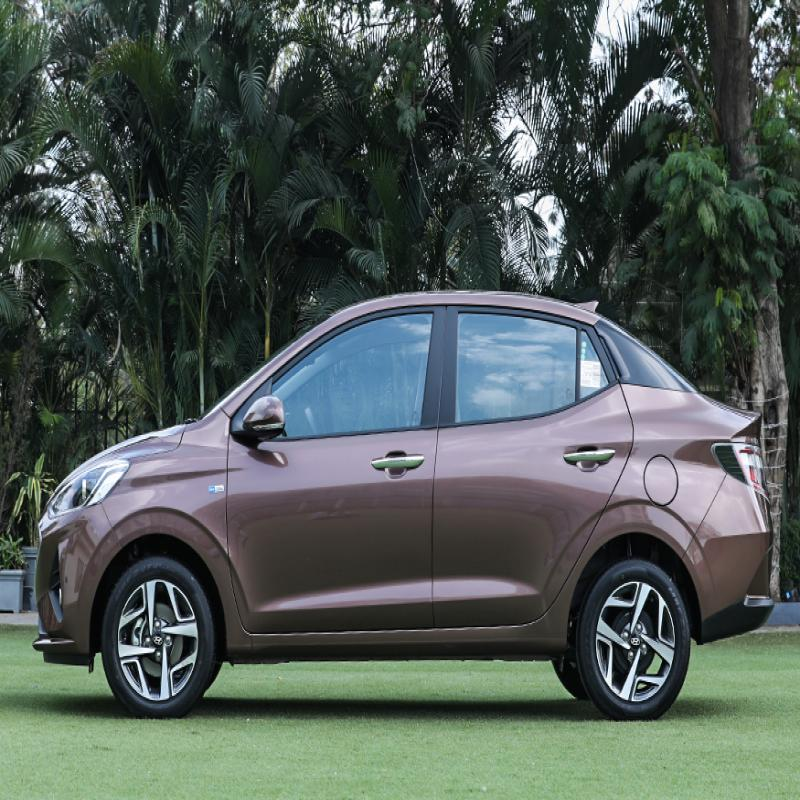car: (25, 232, 766, 708)
